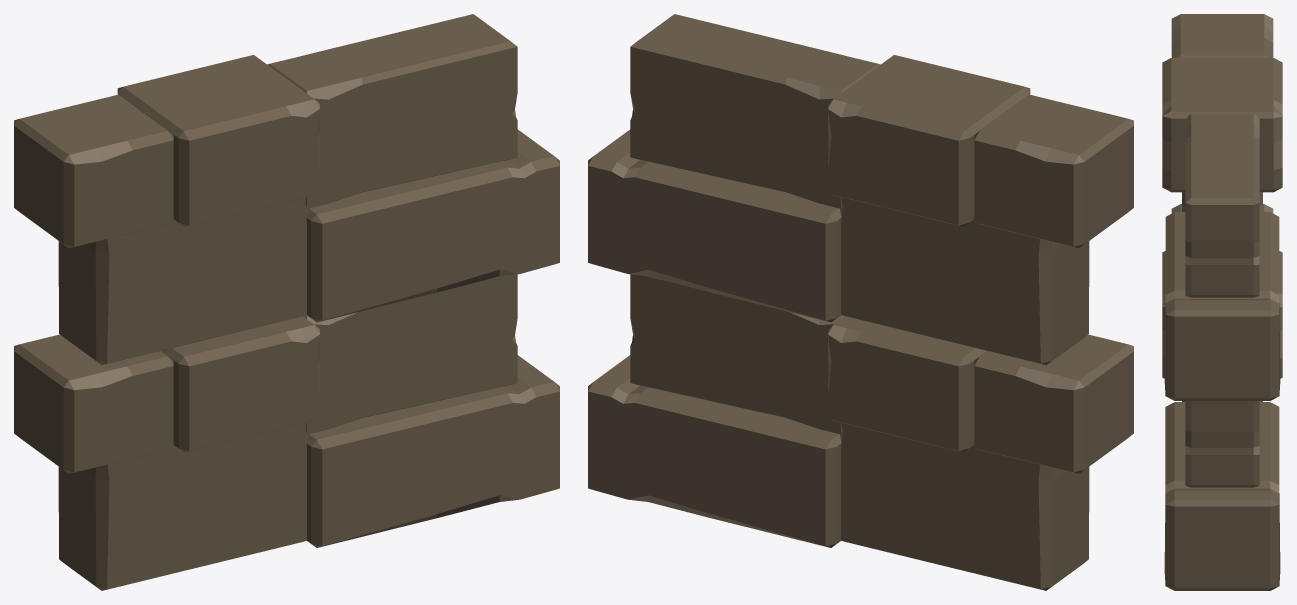
Rendered from Decorative_Wall.glb.
3 views of the same model, side by side, from view 1: azimuth 30°, elevation 25°; view 2: azimuth 150°, elevation 25°; view 3: azimuth 270°, elevation 25° (orthographic). The views are drawn at different scales.
Visible parts, largest first — view 1: Decorative_Wall; view 2: Decorative_Wall; view 3: Decorative_Wall.
Part boxes in pixels (x1,y1,x2,y2): Decorative_Wall: (14, 14, 559, 590); Decorative_Wall: (588, 14, 1133, 590); Decorative_Wall: (1162, 14, 1282, 590).
Bounding box in the file's own units: 1.74 × 1.52 × 0.4381.
